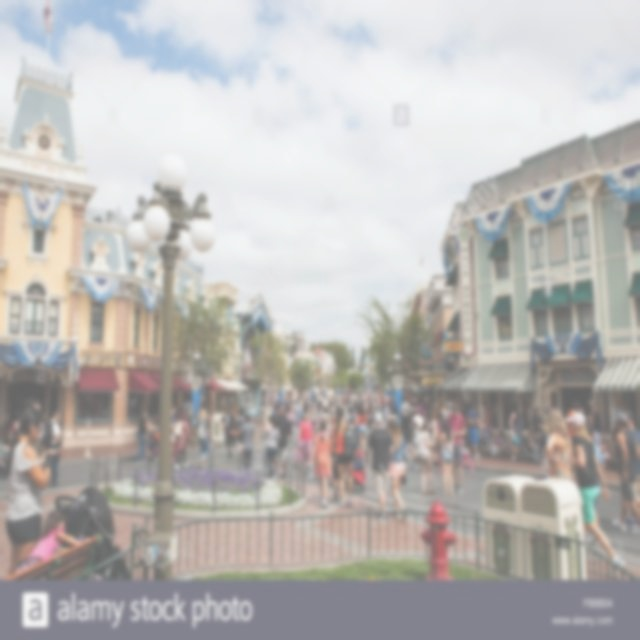pessoa: (566, 412, 626, 580), (4, 406, 58, 578), (13, 509, 91, 576), (612, 411, 640, 538), (364, 411, 394, 524), (330, 406, 358, 508), (584, 422, 606, 547), (545, 407, 577, 485), (310, 420, 338, 509), (388, 418, 408, 523), (229, 414, 260, 476), (446, 402, 466, 496), (624, 412, 640, 528), (32, 399, 49, 497), (258, 414, 280, 484), (293, 411, 316, 471), (438, 419, 455, 498), (418, 420, 436, 494), (172, 410, 194, 470), (274, 406, 292, 479), (331, 388, 398, 406), (47, 410, 62, 488), (509, 403, 526, 463), (532, 405, 548, 467), (77, 391, 110, 421), (196, 408, 211, 471), (466, 403, 482, 460), (135, 409, 151, 465), (412, 407, 425, 473), (418, 395, 452, 420), (456, 430, 475, 474), (220, 406, 236, 458), (588, 399, 604, 449), (432, 411, 444, 474), (330, 439, 342, 501), (611, 406, 622, 472), (428, 410, 439, 468), (400, 395, 412, 443), (294, 400, 306, 446), (235, 408, 246, 458), (357, 406, 368, 456), (182, 397, 194, 441), (566, 401, 580, 436), (306, 393, 320, 426), (285, 403, 296, 444), (152, 407, 160, 462), (0, 438, 10, 480), (458, 395, 470, 429), (482, 399, 494, 432), (382, 406, 398, 430), (363, 406, 375, 434), (498, 428, 511, 452), (272, 393, 300, 404), (312, 426, 320, 464), (171, 405, 177, 453), (325, 414, 335, 442), (222, 394, 235, 414), (318, 406, 331, 424), (526, 422, 537, 443), (408, 392, 416, 418), (315, 396, 323, 421), (488, 434, 497, 456), (175, 405, 183, 426), (24, 398, 36, 411), (302, 396, 310, 414), (130, 395, 136, 419), (270, 404, 278, 418), (326, 414, 332, 432), (322, 396, 329, 410), (332, 399, 338, 414), (326, 405, 332, 419), (374, 406, 382, 414), (328, 394, 333, 404), (578, 406, 584, 414), (347, 406, 350, 418), (416, 396, 418, 406), (326, 394, 329, 400)
